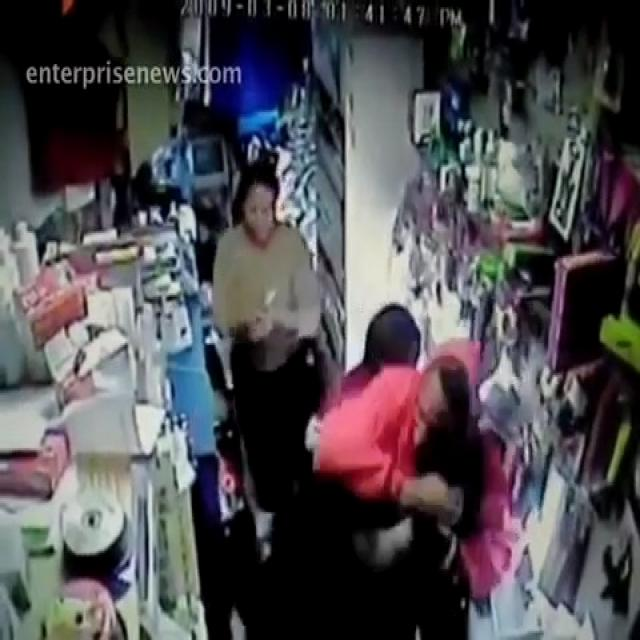fight: (188, 279, 518, 621)
